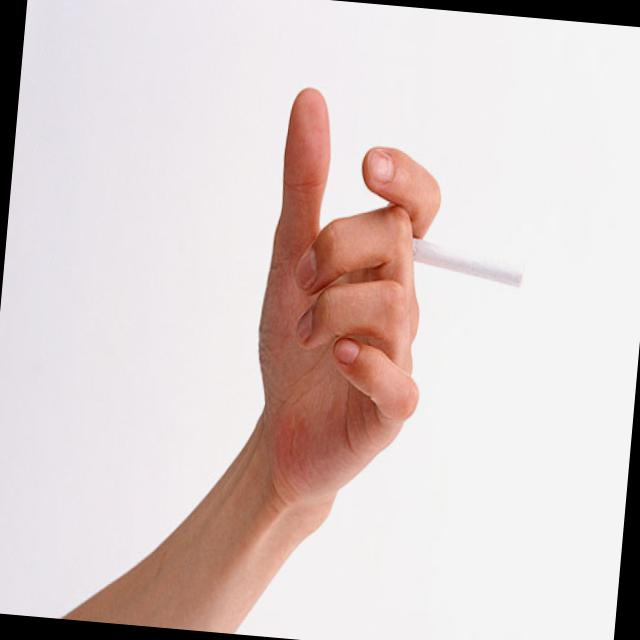smoke: (408, 238, 527, 292)
